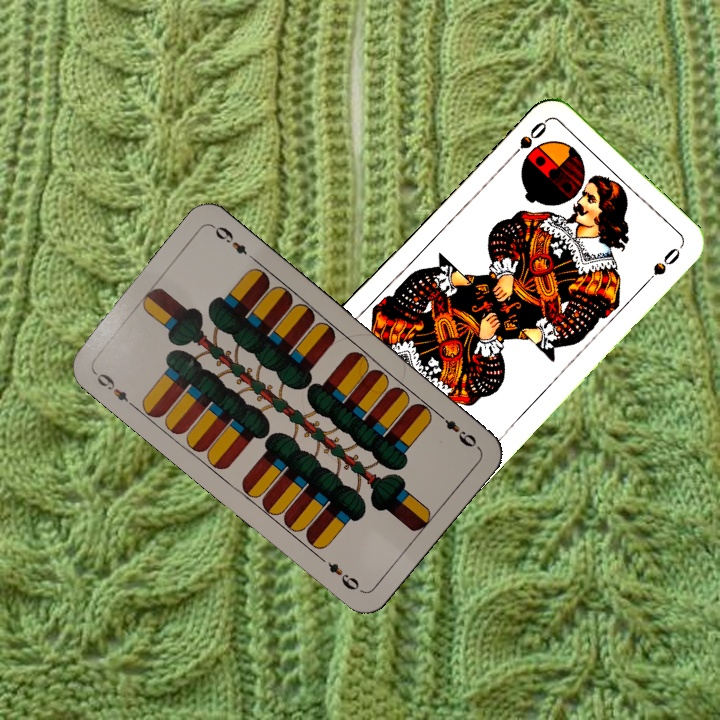E9: (89, 367, 138, 411), (432, 408, 480, 450)
SO: (504, 116, 550, 163)
